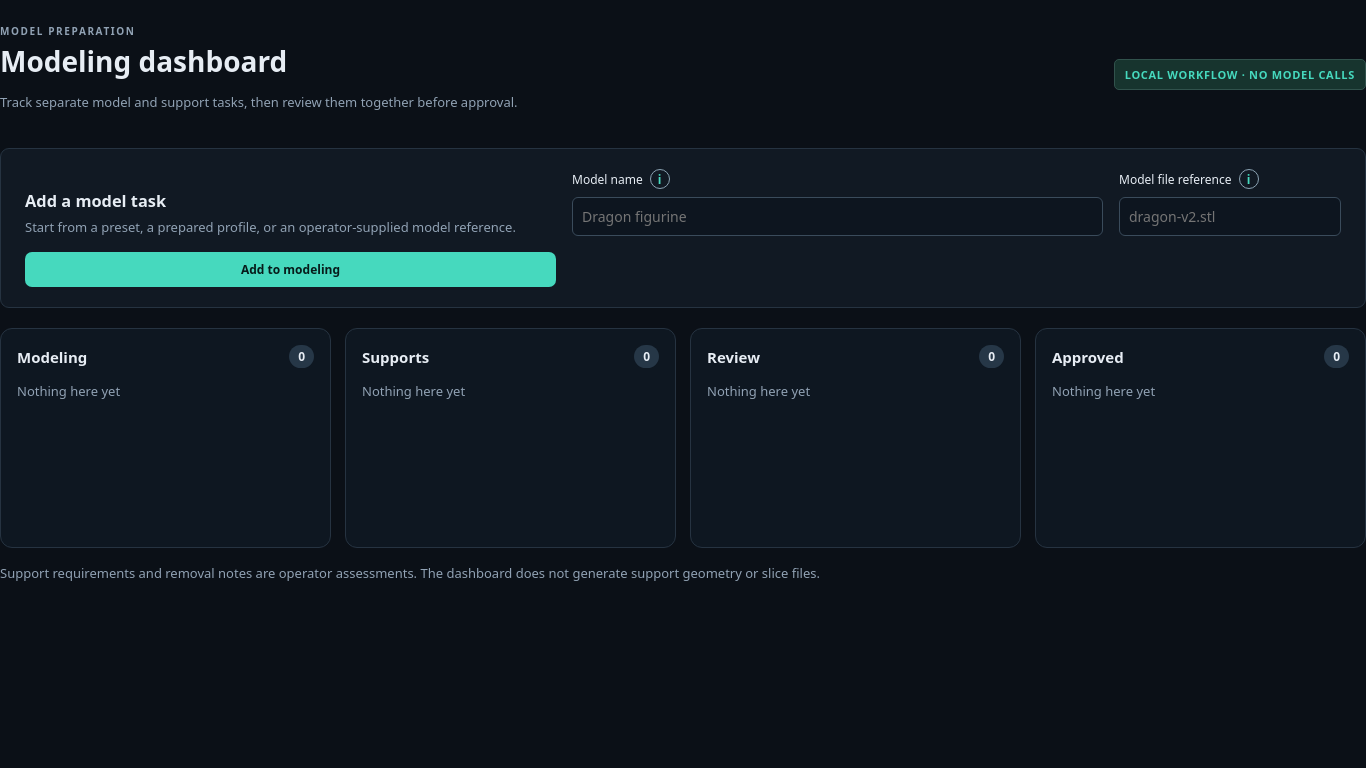
confirms before removing a task in modeling
Type "Desk planter" into the field labelled "Model name" at x=838, y=216, box 572,197 -> 1103,236
Type "planter.stl" into the field labelled "Model file reference" at x=1230, y=216, box 1119,197 -> 1341,236
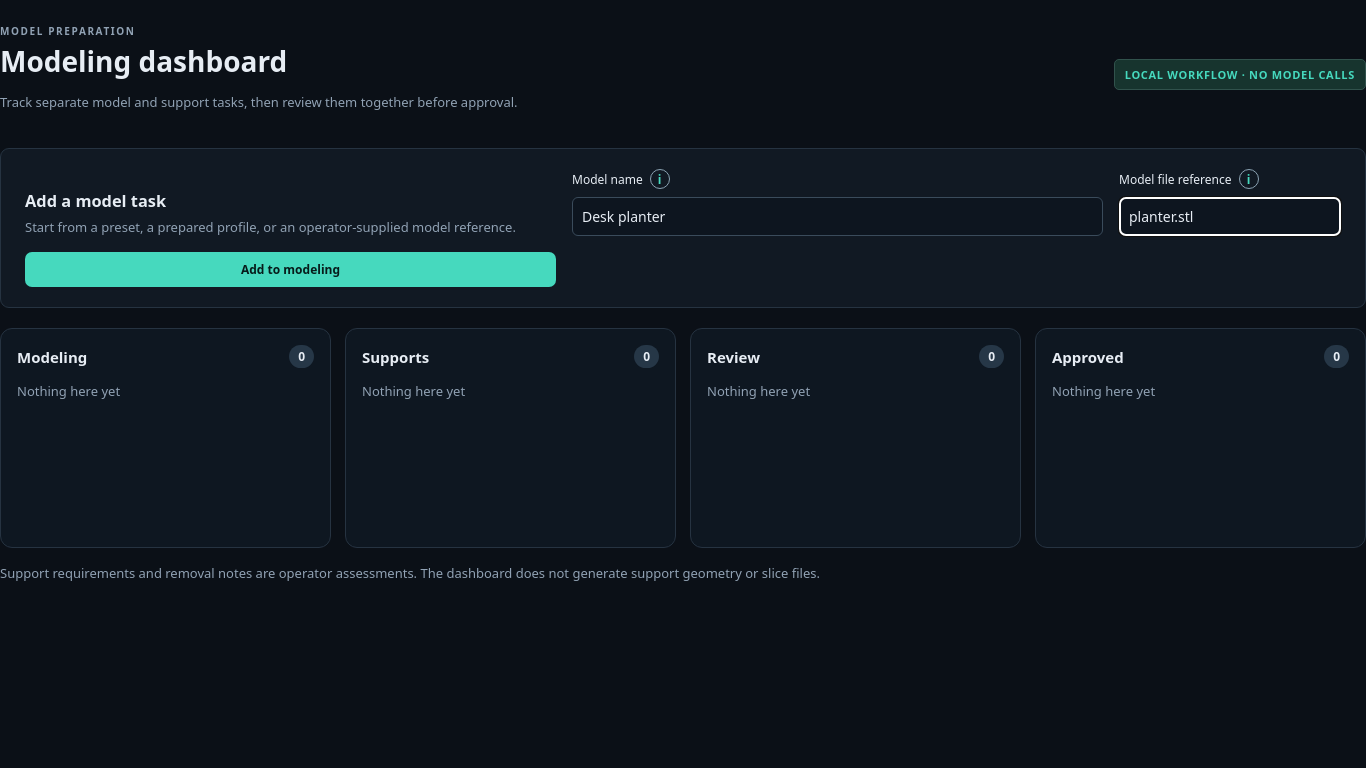
Click the button "Add to modeling" at x=290, y=270, box 25,252 -> 556,287
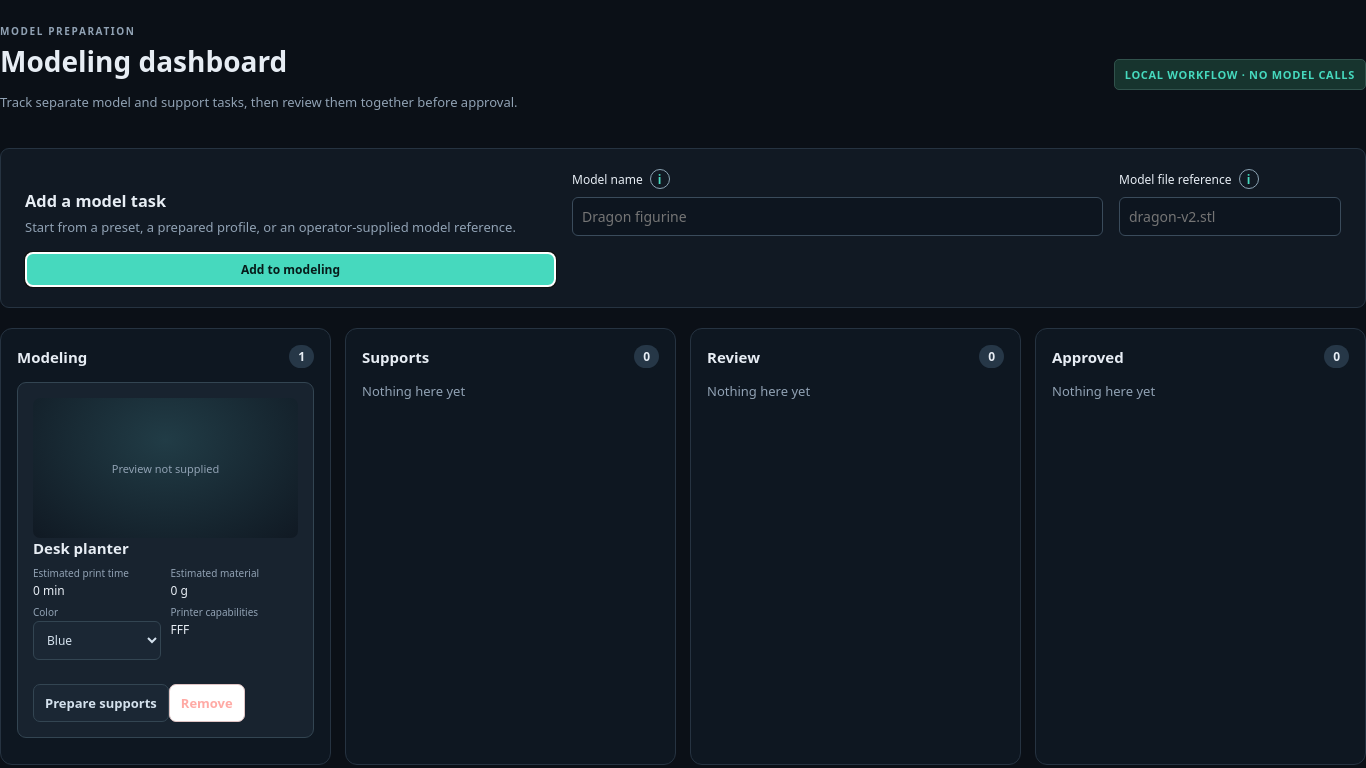
Click the button with aria-label "Remove Desk planter" at x=207, y=703, box 169,684 -> 245,722
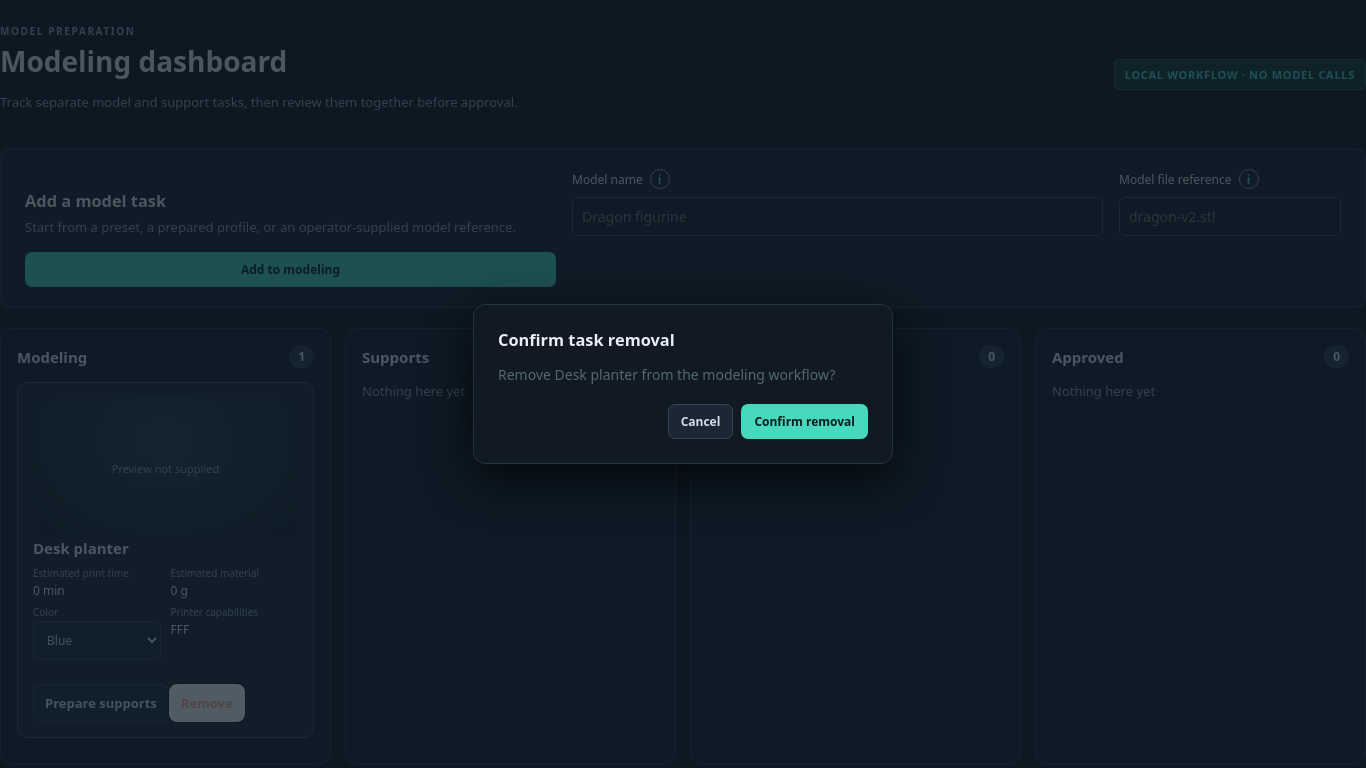
Now the dialog "Confirm task removal" shows "Remove Desk planter from the modeling workflow?", box 473,304 -> 893,464
Click the button with aria-label "Cancel removal" at x=701, y=422, box 668,404 -> 733,439
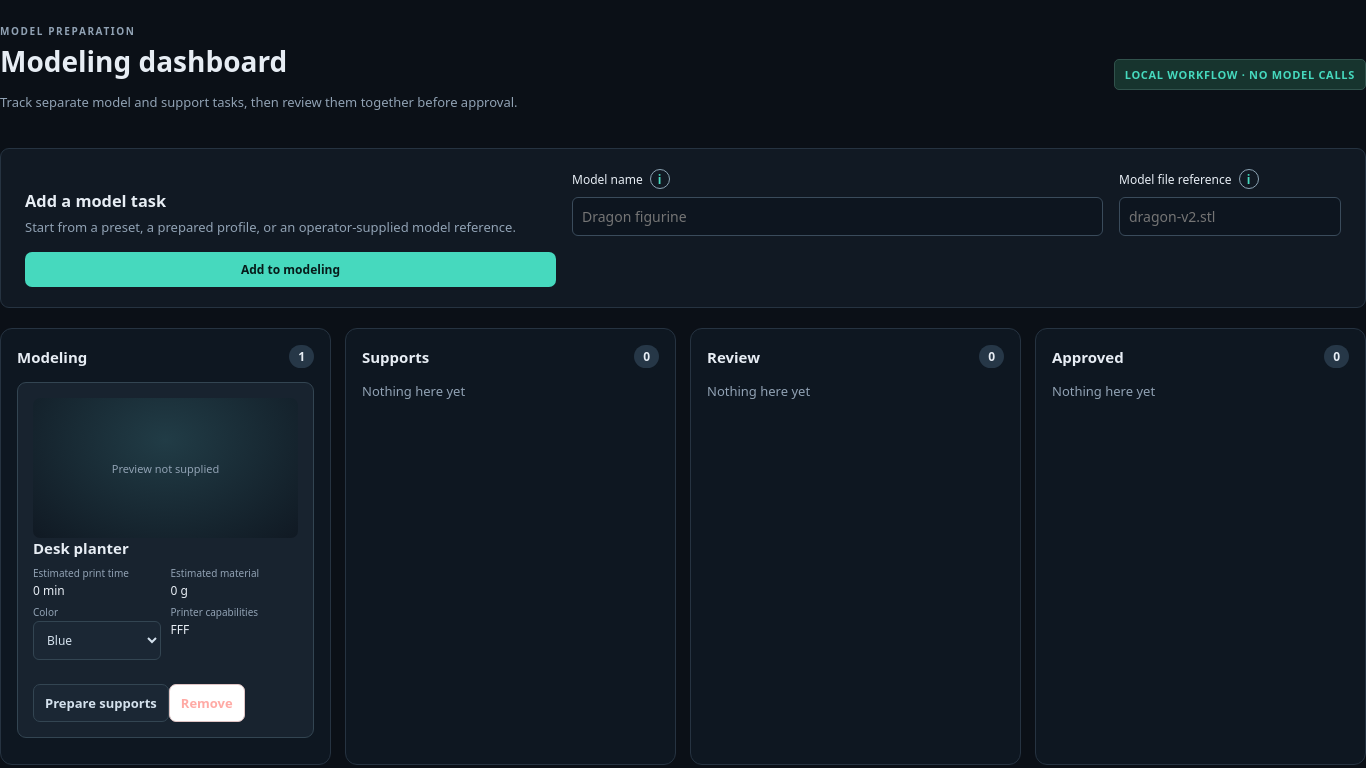
Now the heading "Desk planter" is shown, box 33,538 -> 129,558
Click the button with aria-label "Remove Desk planter" at x=207, y=703, box 169,684 -> 245,722
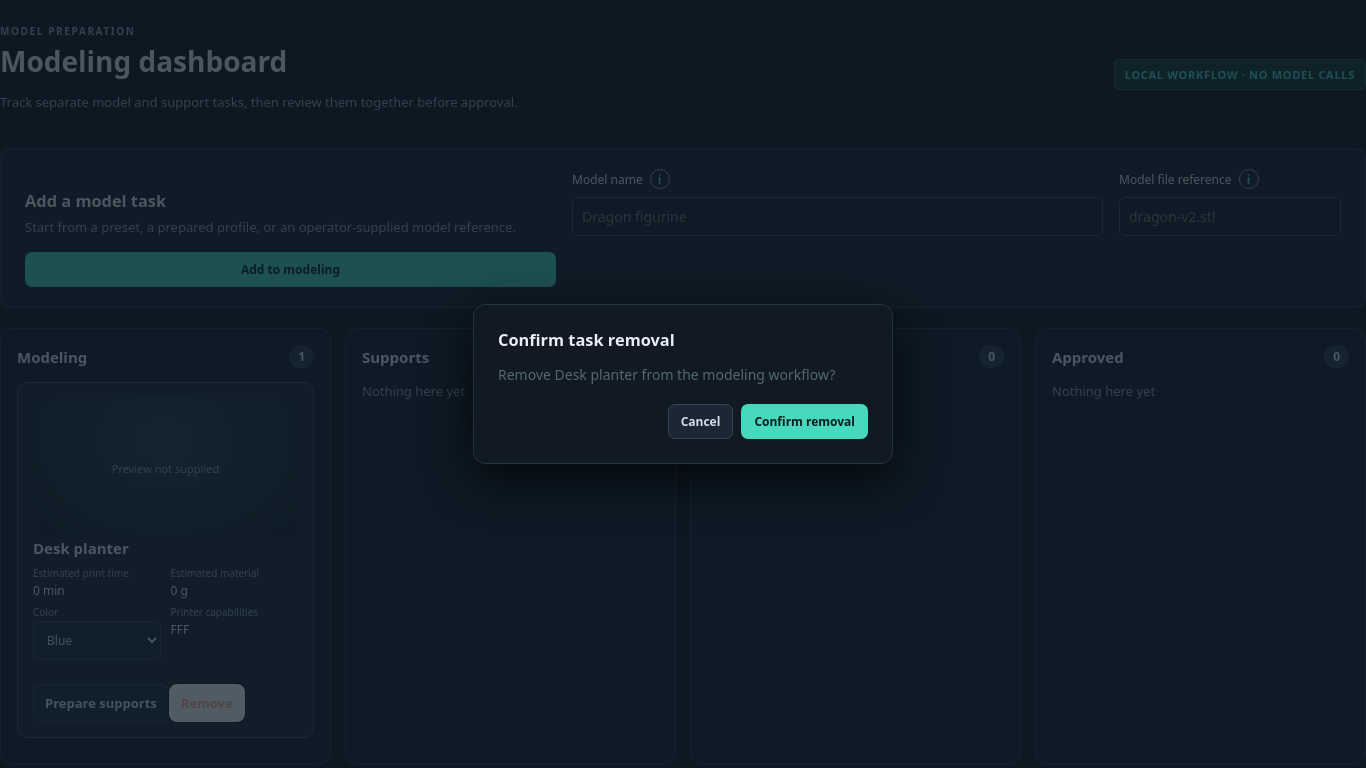
Click the button "Confirm removal" at x=805, y=422, box 741,404 -> 868,439
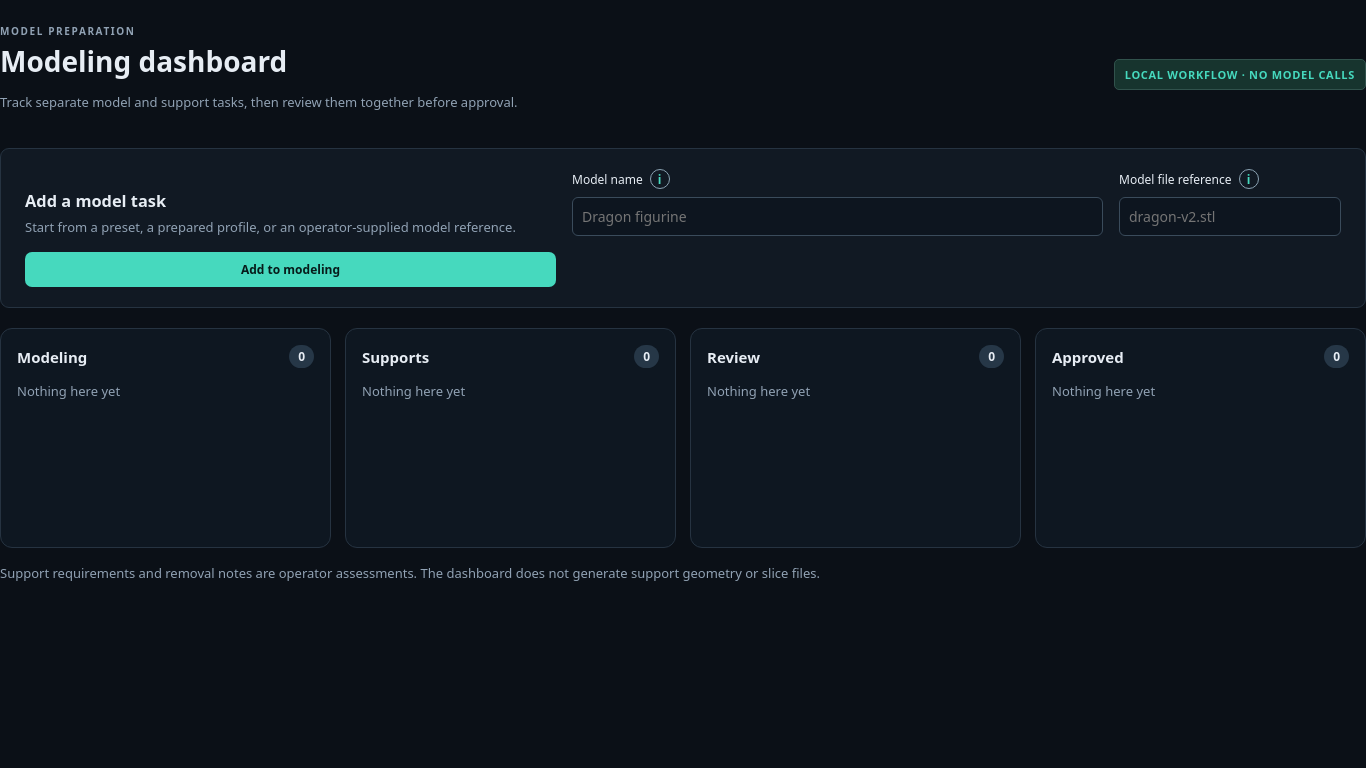
Now the text "Desk planter" is gone
Now the element named "Modeling stage" shows "Nothing here yet", box 17,382 -> 120,400
